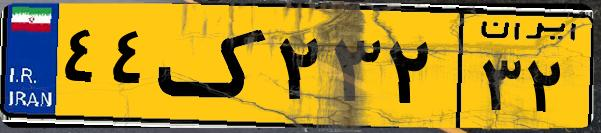2: (270, 28, 330, 110), (385, 28, 445, 110), (525, 38, 570, 115)
3: (330, 28, 385, 110), (475, 38, 525, 113)
4: (57, 26, 110, 100), (110, 28, 158, 98)
ک: (158, 12, 270, 120)
